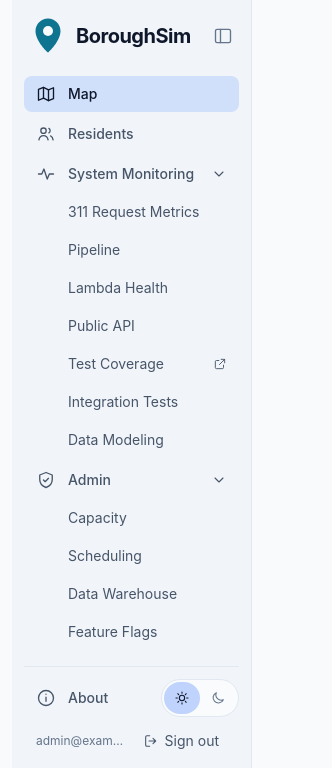
Scenario: Sidebar menu › navigates within an open section and highlights the new item
Click the link "Capacity": click(97, 518) [68, 509, 127, 526]
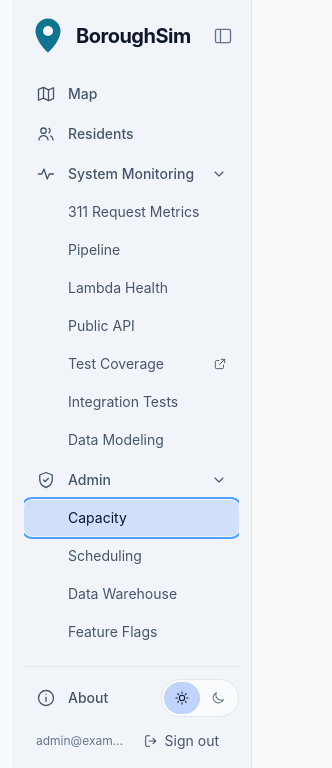
Now the link "Capacity" is marked as current, box [24, 500, 239, 536]
Click the button "Admin": click(132, 480) [24, 462, 239, 498]
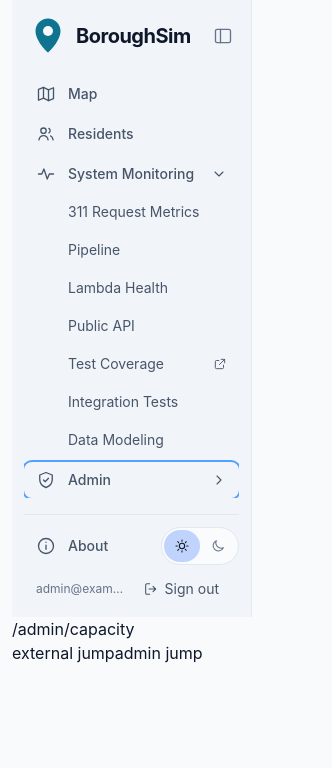
Now the button "Admin" is collapsed, box [24, 462, 239, 498]
